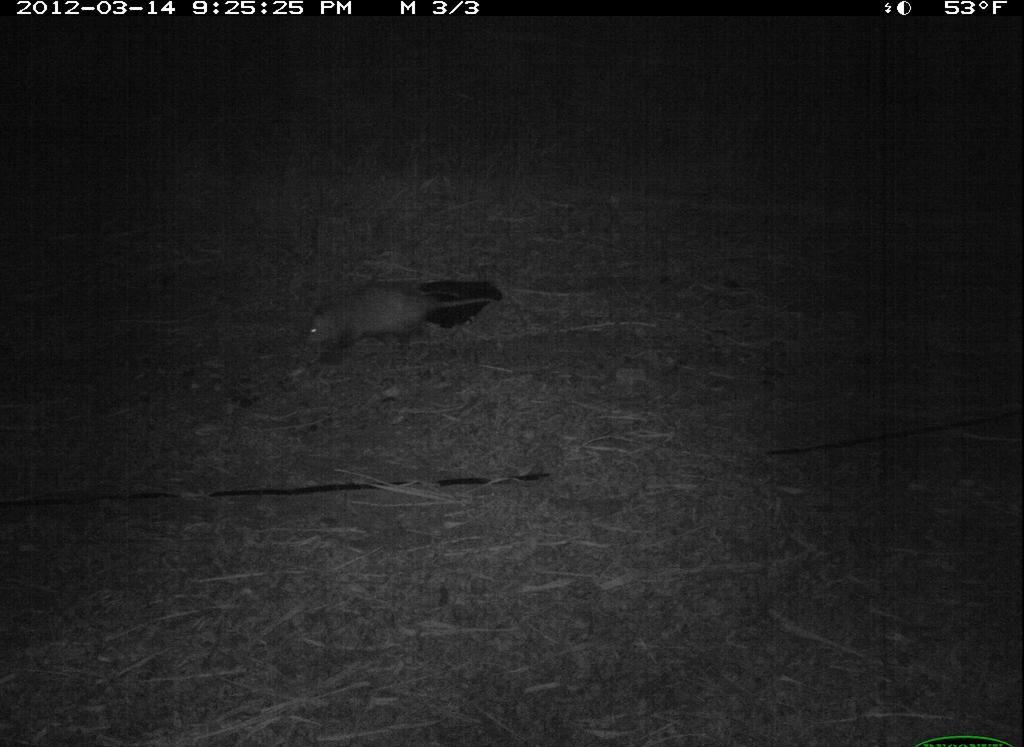opossum: (294, 273, 530, 365)
